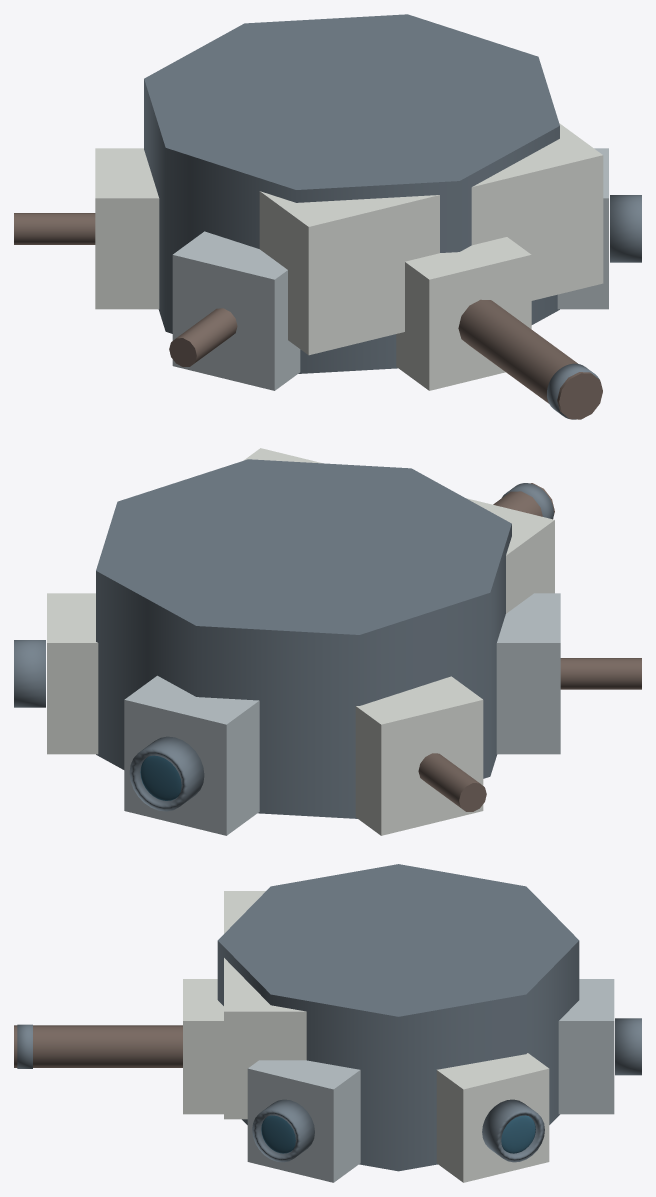
Rendered from perseverance_arm.shoulder_azimuth.shoulder_elevation.elbow.forearm.wrist.turret_rotation.glb.
3 renders of one model, top to bottom at view 1: azimuth 30°, elevation 25°; view 2: azimuth 150°, elevation 25°; view 3: azimuth 270°, elevation 25°, orthographic. The views are drawn at different scales.
Visible parts, largest first — view 1: perseverance_turret.mesh_Machined_steel, perseverance_turret.mesh_Pale_thermal_blanket, perseverance_turret.contact_sensor.mesh_Satin_aluminum, perseverance_turret.drill.mesh_Pale_thermal_blanket, perseverance_turret.gdrt.mesh_Pale_thermal_blanket, perseverance_turret.drill.mesh_Heat-stained_alloy, perseverance_turret.gdrt.mesh_Heat-stained_alloy, perseverance_turret.contact_sensor.mesh_Heat-stained_alloy, perseverance_turret.pixl.aperture.mesh_Machined_steel, perseverance_turret.pixl.mesh_Satin_aluminum, perseverance_turret.drill.mesh_Machined_steel; view 2: perseverance_turret.mesh_Machined_steel, perseverance_turret.gdrt.mesh_Pale_thermal_blanket, perseverance_turret.watson.mesh_Satin_aluminum, perseverance_turret.contact_sensor.mesh_Satin_aluminum, perseverance_turret.sherloc.mesh_Pale_thermal_blanket, perseverance_turret.mesh_Pale_thermal_blanket, perseverance_turret.watson.aperture.mesh_Machined_steel, perseverance_turret.contact_sensor.mesh_Heat-stained_alloy, perseverance_turret.gdrt.mesh_Heat-stained_alloy, perseverance_turret.sherloc.aperture.mesh_Machined_steel, perseverance_turret.watson.aperture.lens.mesh_Coated_optical, perseverance_turret.drill.mesh_Heat-stained_alloy (+1 smaller); view 3: perseverance_turret.mesh_Machined_steel, perseverance_turret.sherloc.mesh_Pale_thermal_blanket, perseverance_turret.pixl.mesh_Satin_aluminum, perseverance_turret.mesh_Pale_thermal_blanket, perseverance_turret.watson.mesh_Satin_aluminum, perseverance_turret.drill.mesh_Heat-stained_alloy, perseverance_turret.drill.mesh_Pale_thermal_blanket, perseverance_turret.sherloc.aperture.mesh_Machined_steel, perseverance_turret.pixl.aperture.mesh_Machined_steel, perseverance_turret.watson.aperture.mesh_Machined_steel, perseverance_turret.sherloc.aperture.lens.mesh_Coated_optica, perseverance_turret.pixl.aperture.lens.mesh_Coated_optical_g (+1 smaller).
Boxes of the visible parts, bbox=[...] form: perseverance_turret.mesh_Machined_steel: bbox=[144, 14, 559, 373]; perseverance_turret.mesh_Pale_thermal_blanket: bbox=[259, 123, 603, 355]; perseverance_turret.contact_sensor.mesh_Satin_aluminum: bbox=[172, 231, 300, 390]; perseverance_turret.drill.mesh_Pale_thermal_blanket: bbox=[396, 237, 531, 390]; perseverance_turret.gdrt.mesh_Pale_thermal_blanket: bbox=[95, 148, 159, 309]; perseverance_turret.drill.mesh_Heat-stained_alloy: bbox=[458, 299, 602, 419]; perseverance_turret.gdrt.mesh_Heat-stained_alloy: bbox=[14, 213, 95, 244]; perseverance_turret.contact_sensor.mesh_Heat-stained_alloy: bbox=[169, 308, 237, 366]; perseverance_turret.pixl.aperture.mesh_Machined_steel: bbox=[610, 195, 641, 262]; perseverance_turret.pixl.mesh_Satin_aluminum: bbox=[557, 148, 608, 309]; perseverance_turret.drill.mesh_Machined_steel: bbox=[547, 363, 600, 419]; perseverance_turret.mesh_Machined_steel: bbox=[96, 459, 511, 818]; perseverance_turret.gdrt.mesh_Pale_thermal_blanket: bbox=[355, 676, 483, 835]; perseverance_turret.watson.mesh_Satin_aluminum: bbox=[124, 675, 259, 835]; perseverance_turret.contact_sensor.mesh_Satin_aluminum: bbox=[496, 593, 560, 754]; perseverance_turret.sherloc.mesh_Pale_thermal_blanket: bbox=[47, 593, 98, 754]; perseverance_turret.mesh_Pale_thermal_blanket: bbox=[243, 448, 554, 613]; perseverance_turret.watson.aperture.mesh_Machined_steel: bbox=[129, 736, 204, 811]; perseverance_turret.contact_sensor.mesh_Heat-stained_alloy: bbox=[560, 658, 641, 689]; perseverance_turret.gdrt.mesh_Heat-stained_alloy: bbox=[418, 753, 486, 811]; perseverance_turret.sherloc.aperture.mesh_Machined_steel: bbox=[14, 640, 45, 707]; perseverance_turret.watson.aperture.lens.mesh_Coated_optical: bbox=[140, 755, 181, 800]; perseverance_turret.drill.mesh_Heat-stained_alloy: bbox=[493, 483, 554, 516]; perseverance_turret.mesh_Machined_steel: bbox=[217, 864, 579, 1171]; perseverance_turret.sherloc.mesh_Pale_thermal_blanket: bbox=[436, 1053, 549, 1182]; perseverance_turret.pixl.mesh_Satin_aluminum: bbox=[247, 1060, 360, 1182]; perseverance_turret.mesh_Pale_thermal_blanket: bbox=[224, 891, 306, 1119]; perseverance_turret.watson.mesh_Satin_aluminum: bbox=[558, 979, 614, 1114]; perseverance_turret.drill.mesh_Heat-stained_alloy: bbox=[14, 1025, 182, 1067]; perseverance_turret.drill.mesh_Pale_thermal_blanket: bbox=[183, 979, 223, 1114]; perseverance_turret.sherloc.aperture.mesh_Machined_steel: bbox=[482, 1099, 544, 1162]; perseverance_turret.pixl.aperture.mesh_Machined_steel: bbox=[252, 1099, 314, 1162]; perseverance_turret.watson.aperture.mesh_Machined_steel: bbox=[615, 1018, 641, 1075]; perseverance_turret.sherloc.aperture.lens.mesh_Coated_optica: bbox=[501, 1115, 535, 1153]; perseverance_turret.pixl.aperture.lens.mesh_Coated_optical_g: bbox=[261, 1115, 295, 1153].
Bounding box in the file's own units: 0.6024 × 0.215 × 0.792.
